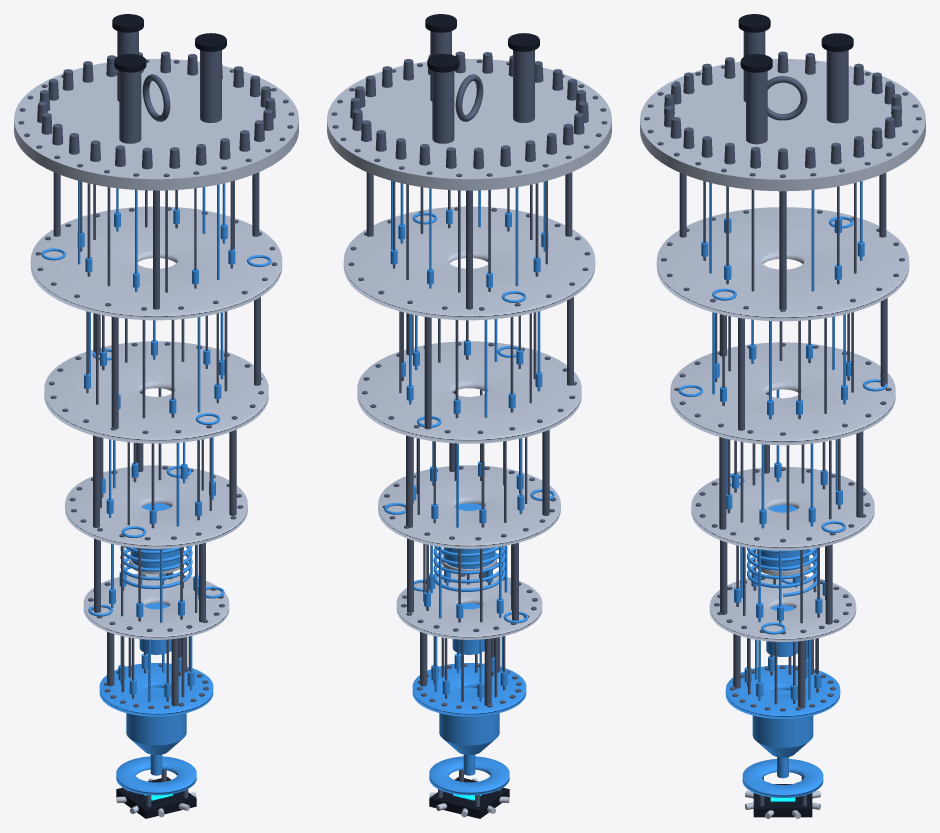
File: quantum-computer.glb
3 views of the same model, side by side, from view 1: azimuth 30°, elevation 25°; view 2: azimuth 150°, elevation 25°; view 3: azimuth 270°, elevation 25° (orthographic).
Visible parts, largest first — view 1: plate_300K, plate_50K, plate_4K, plate_still, plate_cold, plate_mxc, sample_mount, mixing_chamber, pump_line_1, pump_line_0, condenser_helix, qpu_package (+14 smaller); view 2: plate_300K, plate_50K, plate_4K, plate_still, plate_cold, plate_mxc, sample_mount, mixing_chamber, pump_line_2, pump_line_1, condenser_helix, qpu_package (+13 smaller); view 3: plate_300K, plate_50K, plate_4K, plate_still, plate_cold, plate_mxc, sample_mount, mixing_chamber, pump_line_2, pump_line_0, condenser_helix, qpu_package (+14 smaller).
Part boxes in pixels (x1=…): plate_300K: x1=14, y1=58, x2=298, y2=190; plate_50K: x1=30, y1=206, x2=282, y2=320; plate_4K: x1=44, y1=341, x2=268, y2=443; plate_still: x1=65, y1=465, x2=247, y2=548; plate_cold: x1=83, y1=573, x2=229, y2=639; plate_mxc: x1=99, y1=663, x2=213, y2=716; sample_mount: x1=116, y1=756, x2=196, y2=795; mixing_chamber: x1=126, y1=687, x2=186, y2=745; pump_line_1: x1=119, y1=71, x2=141, y2=143; pump_line_0: x1=200, y1=50, x2=221, y2=122; condenser_helix: x1=120, y1=546, x2=192, y2=589; qpu_package: x1=116, y1=777, x2=196, y2=818; plate_300K: x1=327, y1=58, x2=611, y2=190; plate_50K: x1=343, y1=206, x2=595, y2=320; plate_4K: x1=357, y1=341, x2=581, y2=443; plate_still: x1=378, y1=465, x2=560, y2=548; plate_cold: x1=396, y1=573, x2=542, y2=639; plate_mxc: x1=412, y1=663, x2=526, y2=716; sample_mount: x1=429, y1=756, x2=509, y2=795; mixing_chamber: x1=439, y1=687, x2=499, y2=745; pump_line_2: x1=432, y1=71, x2=454, y2=143; pump_line_1: x1=513, y1=50, x2=534, y2=122; condenser_helix: x1=433, y1=546, x2=505, y2=591; qpu_package: x1=429, y1=777, x2=509, y2=818; plate_300K: x1=640, y1=59, x2=925, y2=191; plate_50K: x1=656, y1=207, x2=909, y2=321; plate_4K: x1=670, y1=342, x2=895, y2=445; plate_still: x1=691, y1=466, x2=874, y2=550; plate_cold: x1=709, y1=575, x2=856, y2=641; plate_mxc: x1=725, y1=665, x2=840, y2=718; sample_mount: x1=742, y1=759, x2=823, y2=797; mixing_chamber: x1=752, y1=689, x2=813, y2=747; pump_line_2: x1=826, y1=50, x2=848, y2=123; pump_line_0: x1=746, y1=71, x2=767, y2=144; condenser_helix: x1=746, y1=547, x2=817, y2=596; qpu_package: x1=753, y1=784, x2=812, y2=817.
Size of the model in its own units: 0.68 by 2.01 by 0.68.
